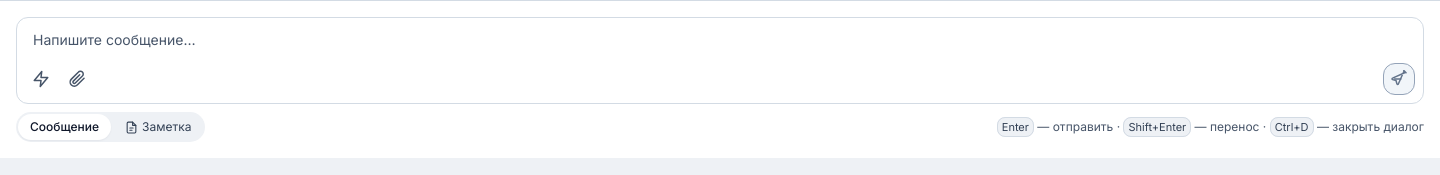
Призрачное продолжение в поле › Tab принимает продолжение — и вот теперь оно в поле
Type "Здра" into the text box named "Текст сообщения" at (720, 40), box [25,26,1415,54]
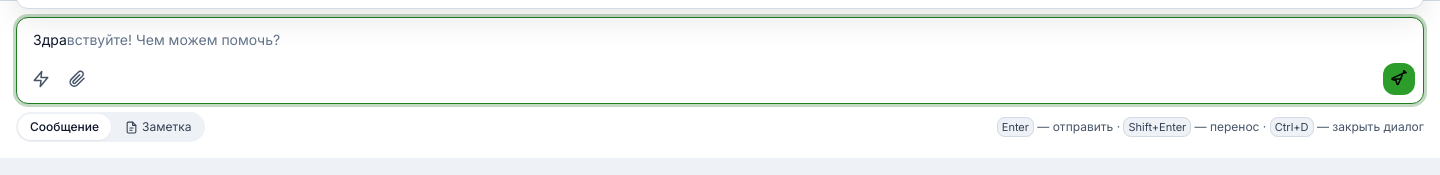
Now the text "вствуйте! Чем можем помочь?" is shown, box [67,31,280,48]
Press Tab
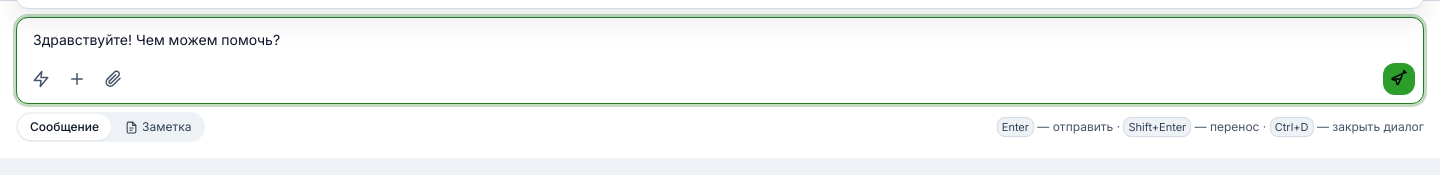
Now the text box named "Текст сообщения" holds "Здравствуйте! Чем можем помочь?", box [25,26,1415,54]
